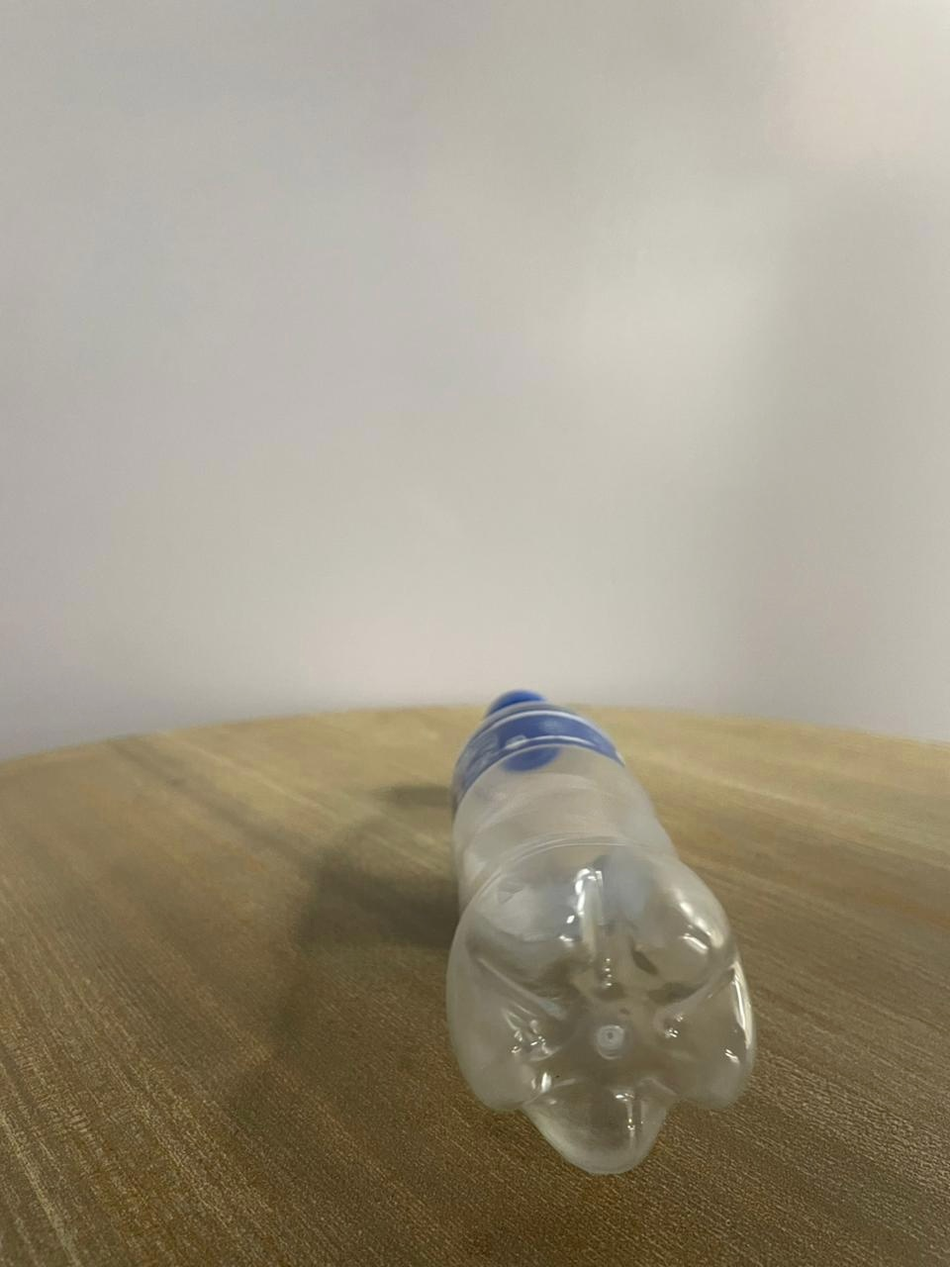Pepsi Bottle: (437, 664, 747, 1194), (441, 666, 752, 1180)
